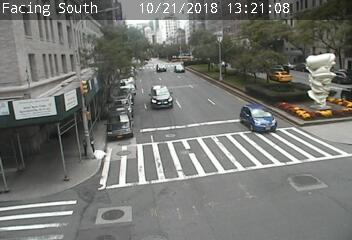car: (241, 106, 279, 132), (152, 86, 172, 108), (175, 63, 187, 73), (156, 64, 168, 71)
